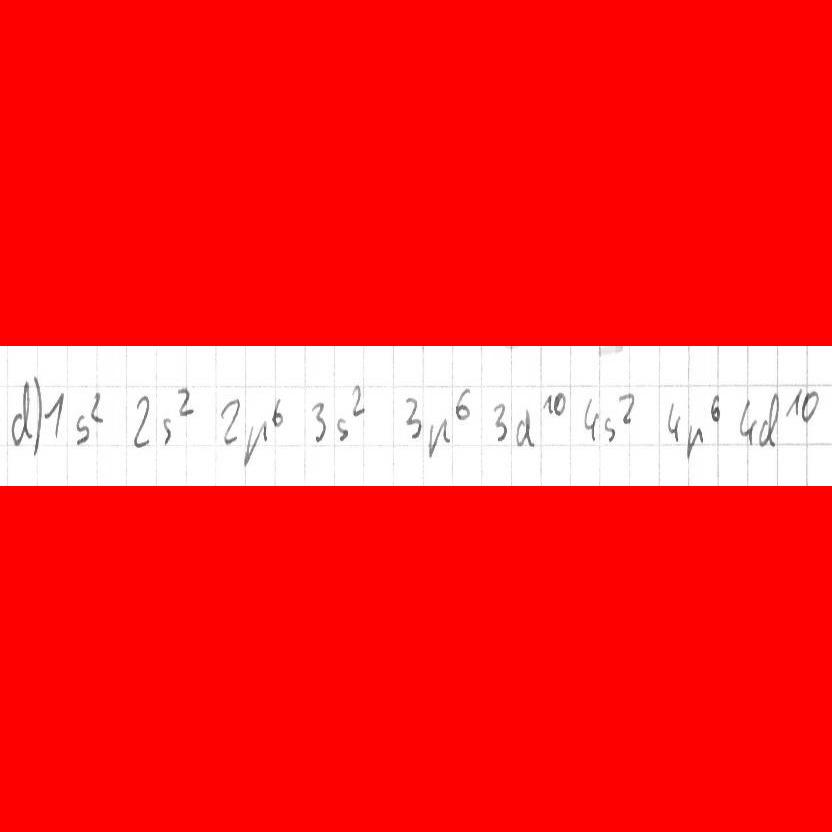Char: (7, 377, 39, 448), (41, 386, 62, 441), (242, 420, 266, 468), (131, 392, 151, 449), (760, 391, 780, 448), (218, 397, 241, 446), (427, 416, 450, 459), (32, 374, 44, 456), (403, 394, 423, 442), (513, 405, 534, 449), (738, 397, 755, 445), (581, 395, 598, 443), (310, 399, 326, 444), (616, 390, 636, 426), (665, 400, 681, 444), (799, 390, 820, 421), (686, 423, 704, 458), (176, 385, 194, 420), (454, 385, 470, 424), (492, 404, 508, 442), (350, 382, 365, 421), (544, 391, 566, 417), (782, 386, 799, 419), (89, 391, 104, 427), (75, 412, 90, 447), (271, 395, 285, 431), (159, 413, 174, 446), (709, 392, 723, 424), (336, 415, 350, 444), (603, 414, 616, 445)
